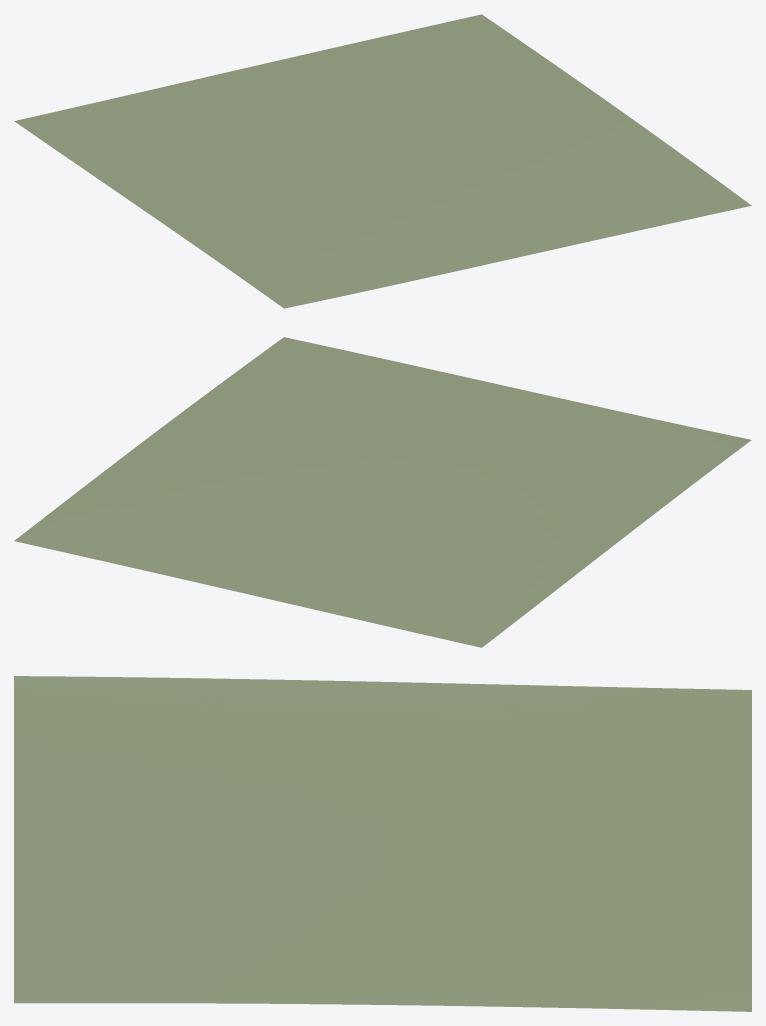
File: expanse-17-6.glb
The picture shows the model from 3 angles, top to bottom: view 1: azimuth 30°, elevation 25°; view 2: azimuth 150°, elevation 25°; view 3: azimuth 270°, elevation 25°; orthographic projection. The views are drawn at different scales.
Parts seen in each view (by area): view 1: expanse-17-6; view 2: expanse-17-6; view 3: expanse-17-6.
Boxes of the visible parts, box(x1,y1,x2,y2) form: expanse-17-6: box(14, 14, 751, 308); expanse-17-6: box(14, 337, 751, 647); expanse-17-6: box(14, 676, 751, 1011).
Size of the model in its own units: 256 by 9.2 by 256.
